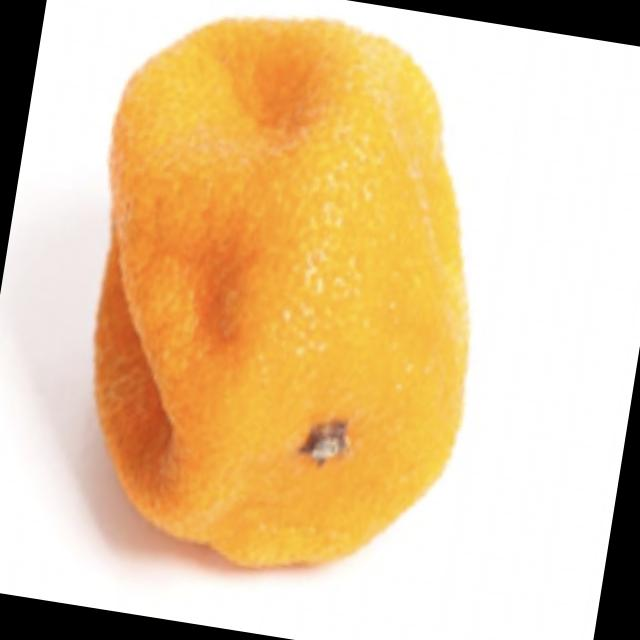rotten-orange: (46, 0, 521, 597)
